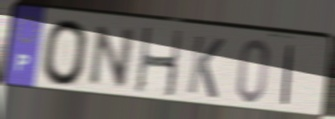0: (234, 38, 272, 106)
H: (134, 26, 185, 100)
I: (279, 43, 297, 108)
K: (185, 33, 227, 101)
N: (85, 24, 139, 90)
O: (40, 17, 91, 89)
